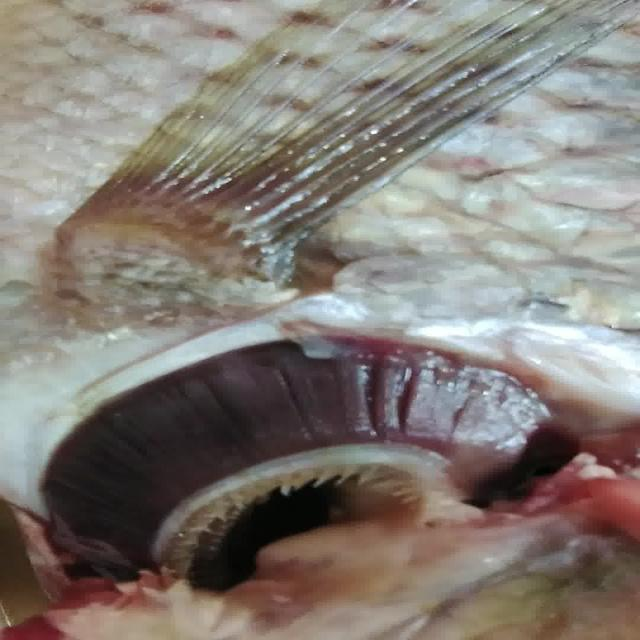Non-Fresh: (57, 340, 585, 520)
